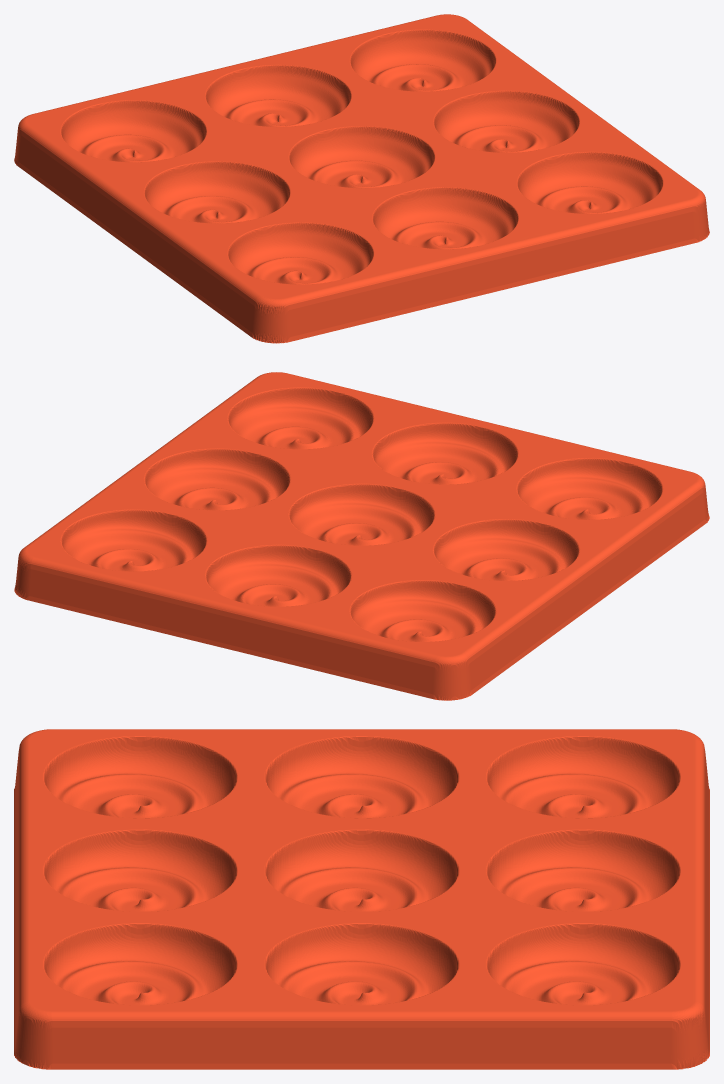
File: mold.glb
3 renders of one model, top to bottom at view 1: azimuth 30°, elevation 25°; view 2: azimuth 150°, elevation 25°; view 3: azimuth 270°, elevation 25°, orthographic. The views are drawn at different scales.
Visible parts, largest first — view 1: geometry_0; view 2: geometry_0; view 3: geometry_0.
Part boxes in pixels (<box>): geometry_0: <box>14,14,709,343</box>; geometry_0: <box>14,372,709,700</box>; geometry_0: <box>14,729,709,1069</box>.
Bounding box in the file's own units: 0.1621 × 0.0134 × 0.1621.
